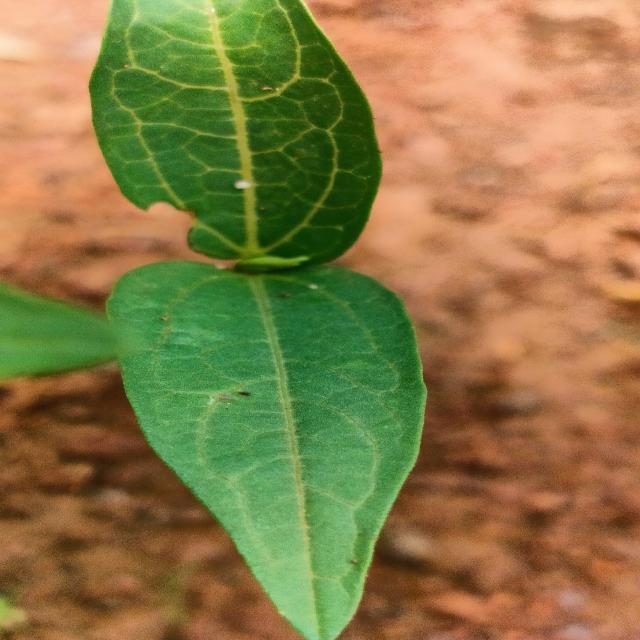Black gram_healthy: (97, 254, 428, 640), (85, 0, 381, 266)
